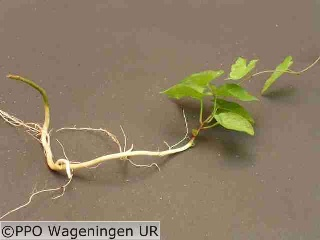haagwinde: (160, 42, 320, 156)
